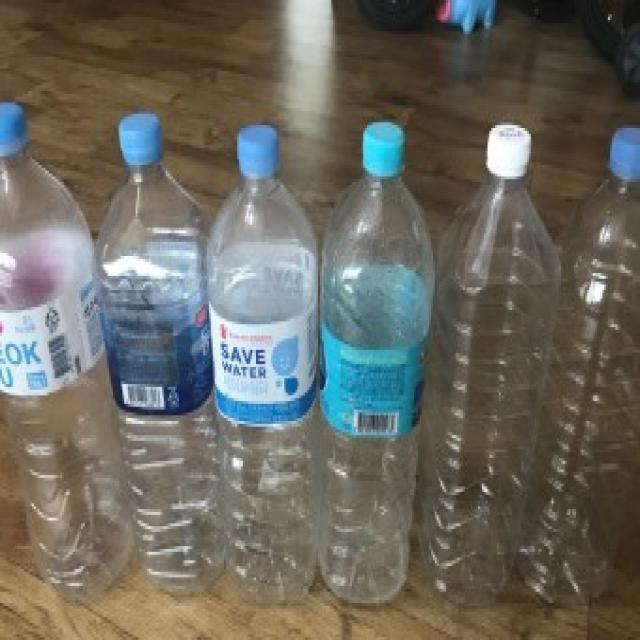plastic_bottle: (0, 103, 134, 598), (429, 122, 561, 609), (519, 122, 640, 620), (98, 111, 215, 595), (205, 125, 322, 606), (322, 122, 435, 606)
